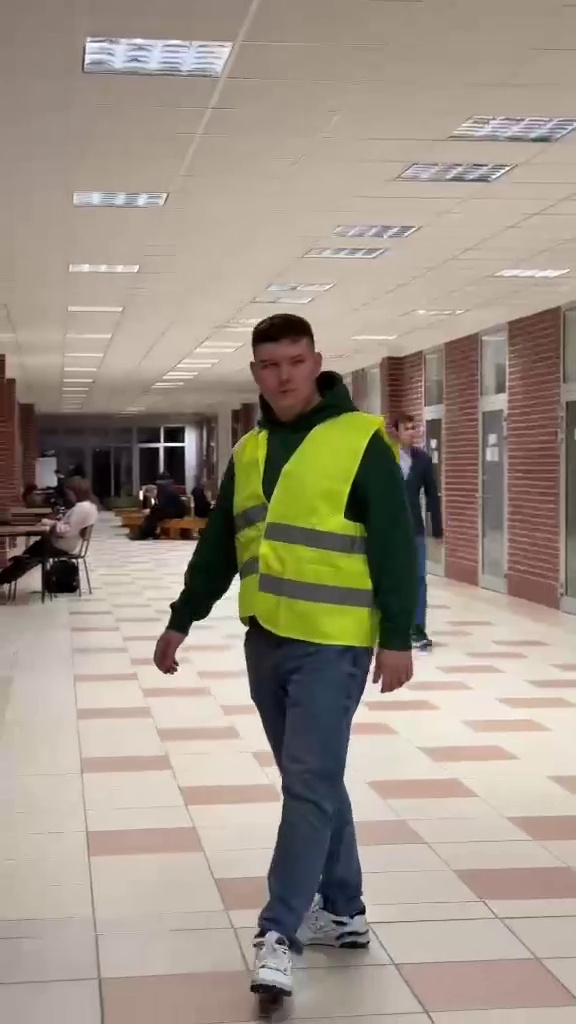no vest: (0, 471, 101, 590)
vest: (166, 303, 410, 1021)
